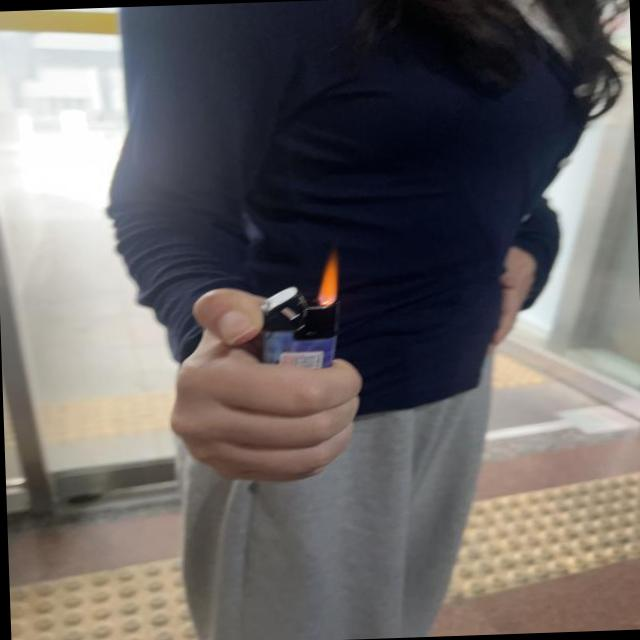Fire: (314, 258, 339, 308)
